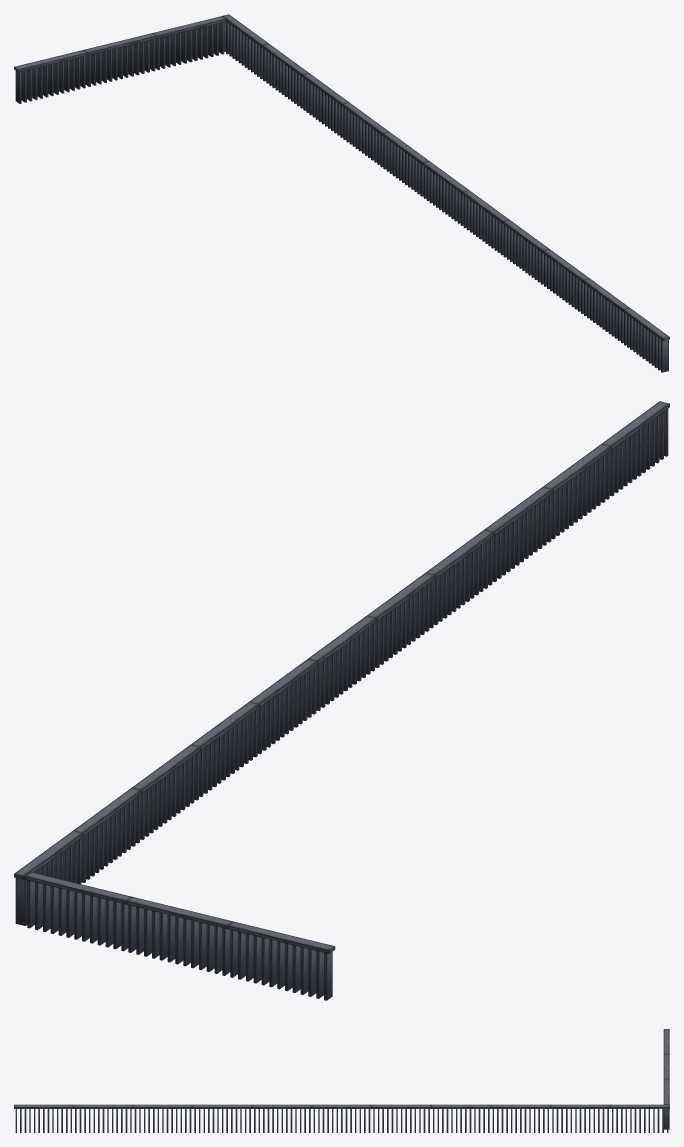
File: fence02.fbx
3 renders of one model, top to bottom at view 1: azimuth 30°, elevation 25°; view 2: azimuth 150°, elevation 25°; view 3: azimuth 270°, elevation 25°, orthographic. The views are drawn at different scales.
Visible parts, largest first — view 1: pasted__pasted__WallOverWorld4 (×2), pasted__pasted__WallOverWorld3 (×2), pasted__pasted__WallOverWorld2 (×2), pasted__pasted__WallOverWorld12, pasted__pasted__WallOverWorld10, pasted__pasted__WallOverWorld5, pasted__pasted__WallOverWorld7, pasted__pasted__WallOverWorld8, pasted__pasted__WallOverWorld9, pasted__pasted__WallOverWorld11, pasted__pasted__WallOverWorld6; view 2: pasted__pasted__WallOverWorld3 (×2), pasted__pasted__WallOverWorld4 (×2), pasted__pasted__WallOverWorld2 (×2), pasted__pasted__WallOverWorld12, pasted__pasted__WallOverWorld10, pasted__pasted__WallOverWorld9, pasted__pasted__WallOverWorld8, pasted__pasted__WallOverWorld11, pasted__pasted__WallOverWorld7, pasted__pasted__WallOverWorld5, pasted__pasted__WallOverWorld6; view 3: pasted__pasted__WallOverWorld2 (×2), pasted__pasted__WallOverWorld3 (×2), pasted__pasted__WallOverWorld4 (×2), pasted__pasted__WallOverWorld5, pasted__pasted__WallOverWorld7, pasted__pasted__WallOverWorld8, pasted__pasted__WallOverWorld9, pasted__pasted__WallOverWorld11, pasted__pasted__WallOverWorld10, pasted__pasted__WallOverWorld6, pasted__pasted__WallOverWorld12.
Boxes of the visible parts, x1=… form: pasted__pasted__WallOverWorld4 (×2): x1=14, y1=50, x2=348, y2=137; pasted__pasted__WallOverWorld3 (×2): x1=84, y1=33, x2=428, y2=196; pasted__pasted__WallOverWorld2 (×2): x1=153, y1=16, x2=509, y2=255; pasted__pasted__WallOverWorld12: x1=623, y1=307, x2=669, y2=372; pasted__pasted__WallOverWorld10: x1=502, y1=219, x2=548, y2=284; pasted__pasted__WallOverWorld5: x1=262, y1=43, x2=308, y2=108; pasted__pasted__WallOverWorld7: x1=342, y1=102, x2=388, y2=167; pasted__pasted__WallOverWorld8: x1=422, y1=161, x2=468, y2=225; pasted__pasted__WallOverWorld9: x1=543, y1=249, x2=589, y2=313; pasted__pasted__WallOverWorld11: x1=583, y1=278, x2=629, y2=343; pasted__pasted__WallOverWorld6: x1=222, y1=14, x2=268, y2=79; pasted__pasted__WallOverWorld3 (×2): x1=126, y1=659, x2=317, y2=975; pasted__pasted__WallOverWorld4 (×2): x1=132, y1=745, x2=335, y2=1000; pasted__pasted__WallOverWorld2 (×2): x1=24, y1=573, x2=435, y2=951; pasted__pasted__WallOverWorld12: x1=601, y1=401, x2=669, y2=496; pasted__pasted__WallOverWorld10: x1=425, y1=530, x2=493, y2=625; pasted__pasted__WallOverWorld9: x1=484, y1=487, x2=552, y2=582; pasted__pasted__WallOverWorld8: x1=308, y1=616, x2=376, y2=710; pasted__pasted__WallOverWorld11: x1=543, y1=444, x2=611, y2=539; pasted__pasted__WallOverWorld7: x1=190, y1=702, x2=258, y2=796; pasted__pasted__WallOverWorld5: x1=73, y1=788, x2=141, y2=882; pasted__pasted__WallOverWorld6: x1=14, y1=831, x2=82, y2=925; pasted__pasted__WallOverWorld2 (×2): x1=252, y1=1079, x2=669, y2=1132; pasted__pasted__WallOverWorld3 (×2): x1=371, y1=1054, x2=669, y2=1132; pasted__pasted__WallOverWorld4 (×2): x1=491, y1=1029, x2=669, y2=1132; pasted__pasted__WallOverWorld5: x1=550, y1=1104, x2=610, y2=1132; pasted__pasted__WallOverWorld7: x1=431, y1=1104, x2=490, y2=1132; pasted__pasted__WallOverWorld8: x1=312, y1=1104, x2=371, y2=1132; pasted__pasted__WallOverWorld9: x1=133, y1=1104, x2=192, y2=1132; pasted__pasted__WallOverWorld11: x1=73, y1=1104, x2=132, y2=1132; pasted__pasted__WallOverWorld10: x1=192, y1=1104, x2=252, y2=1132; pasted__pasted__WallOverWorld6: x1=610, y1=1104, x2=669, y2=1132; pasted__pasted__WallOverWorld12: x1=14, y1=1104, x2=73, y2=1132.
Size of the model in its own units: 365 by 56.33 by 1295.
